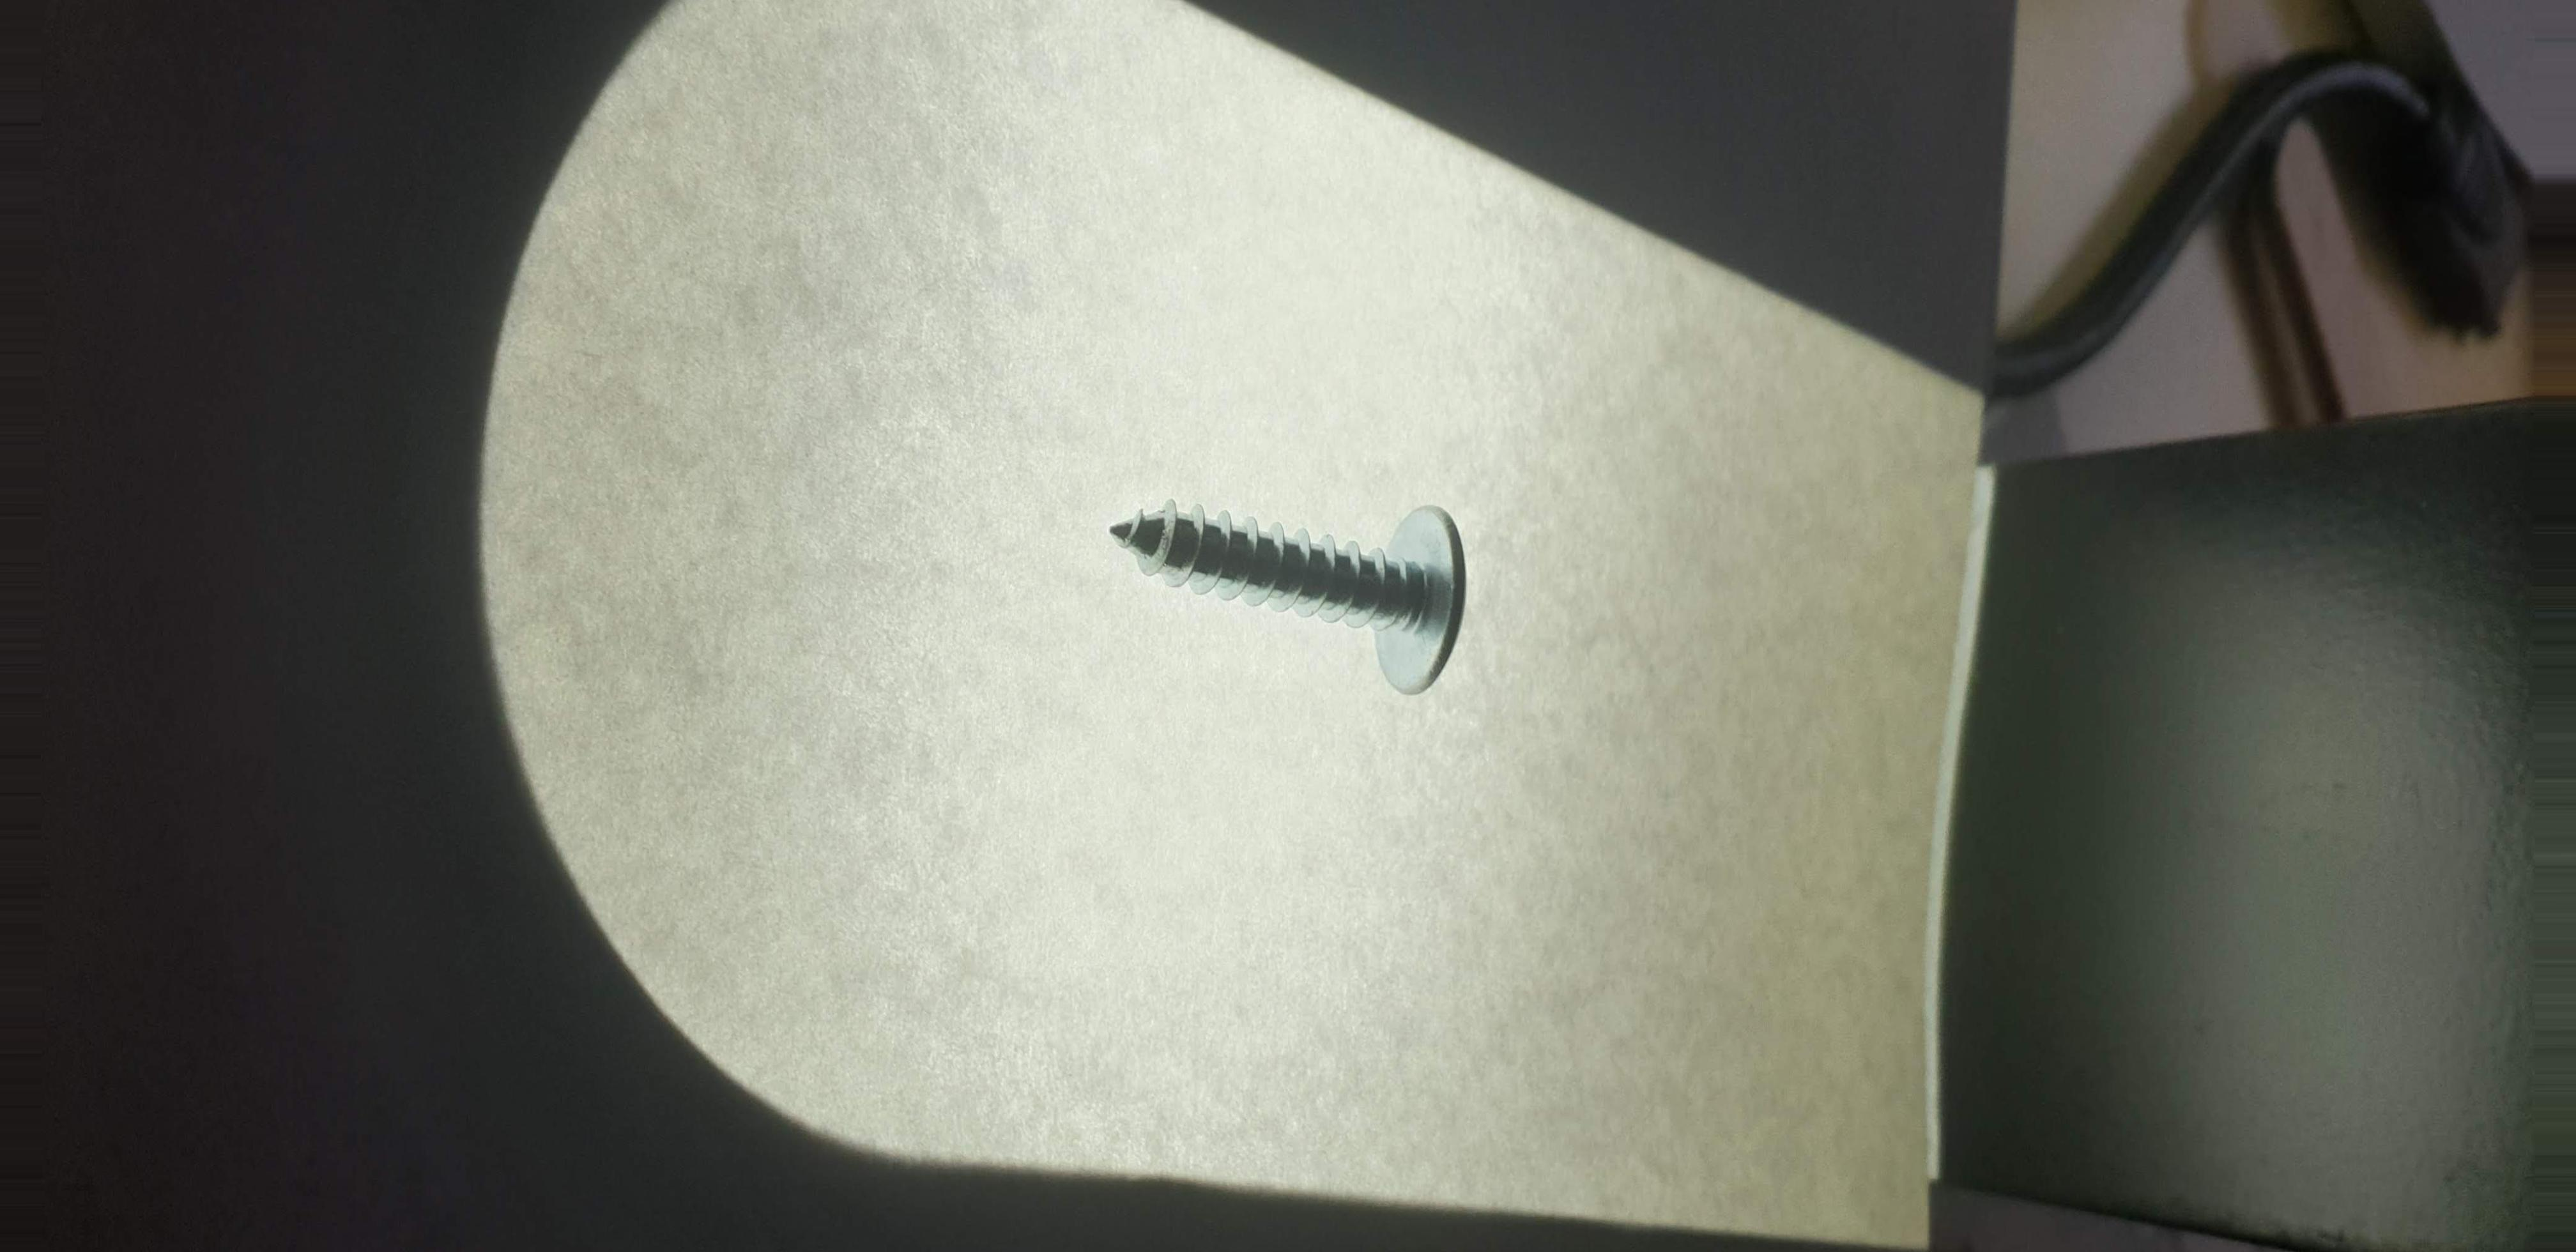S002: (1078, 445, 1513, 739)
